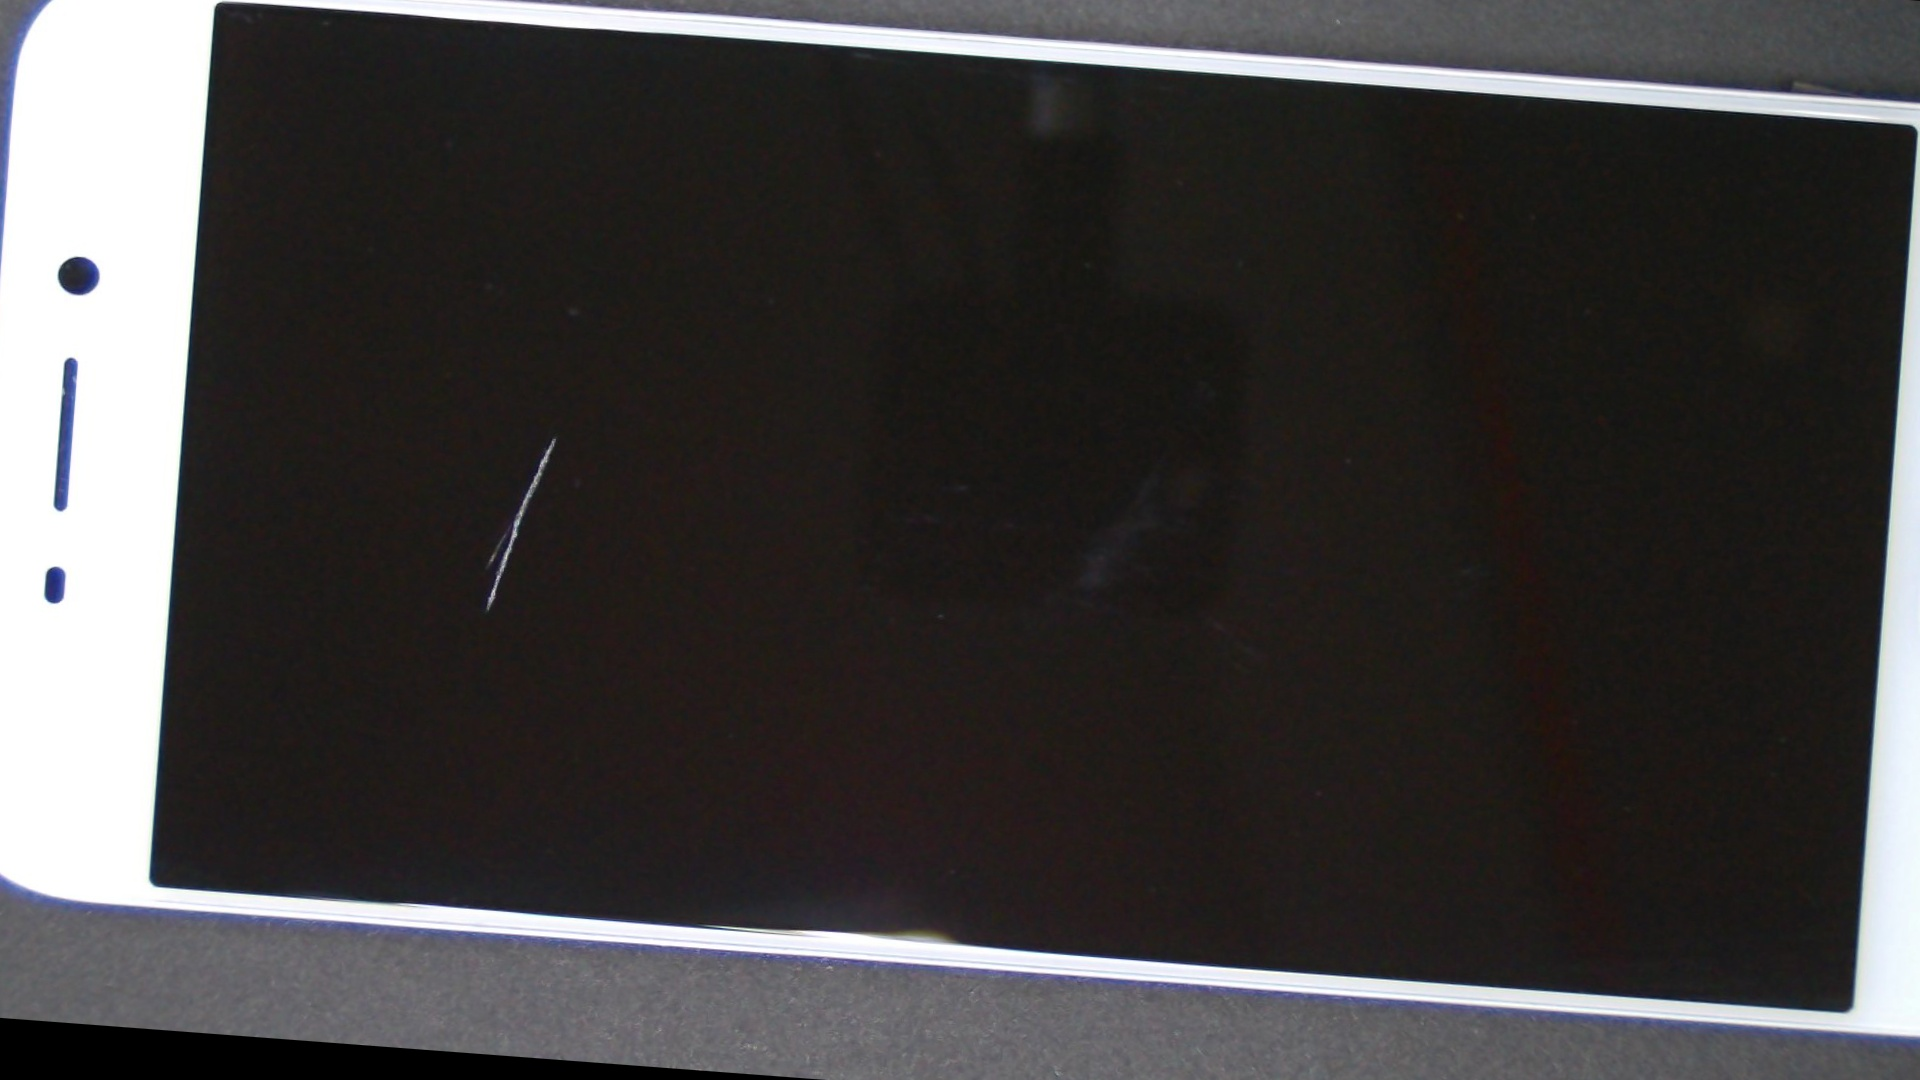oil: (210, 145, 894, 731)
